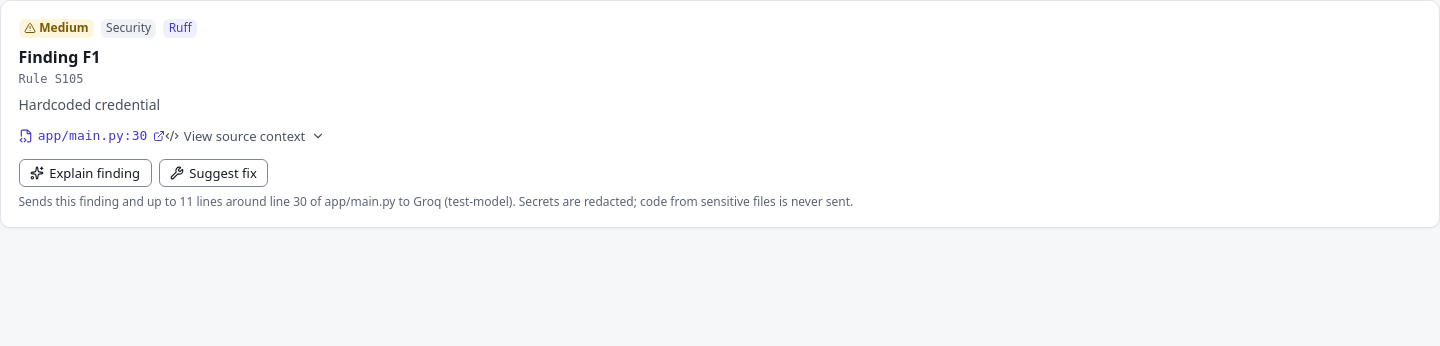
it: finding AI (B5) › explains a finding on request and renders the answer as Markdown
Step 1. Click the button "Explain finding" → (85, 173), box [18,159,152,187]
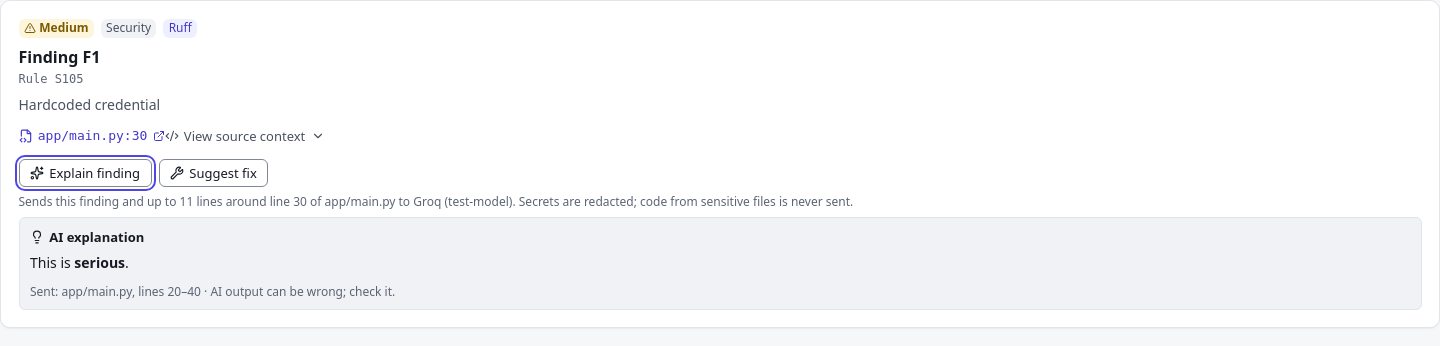
Now the text "Sent: app/main.py, lines 20–40" is shown, box [30,283,395,300]
